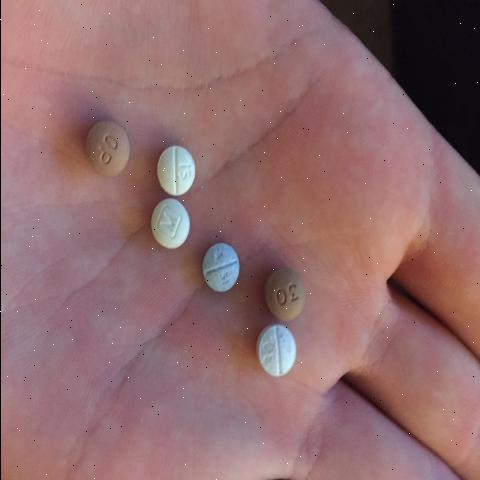Pill: (241, 325, 310, 395), (152, 123, 208, 196), (147, 199, 198, 266), (202, 236, 243, 311)
